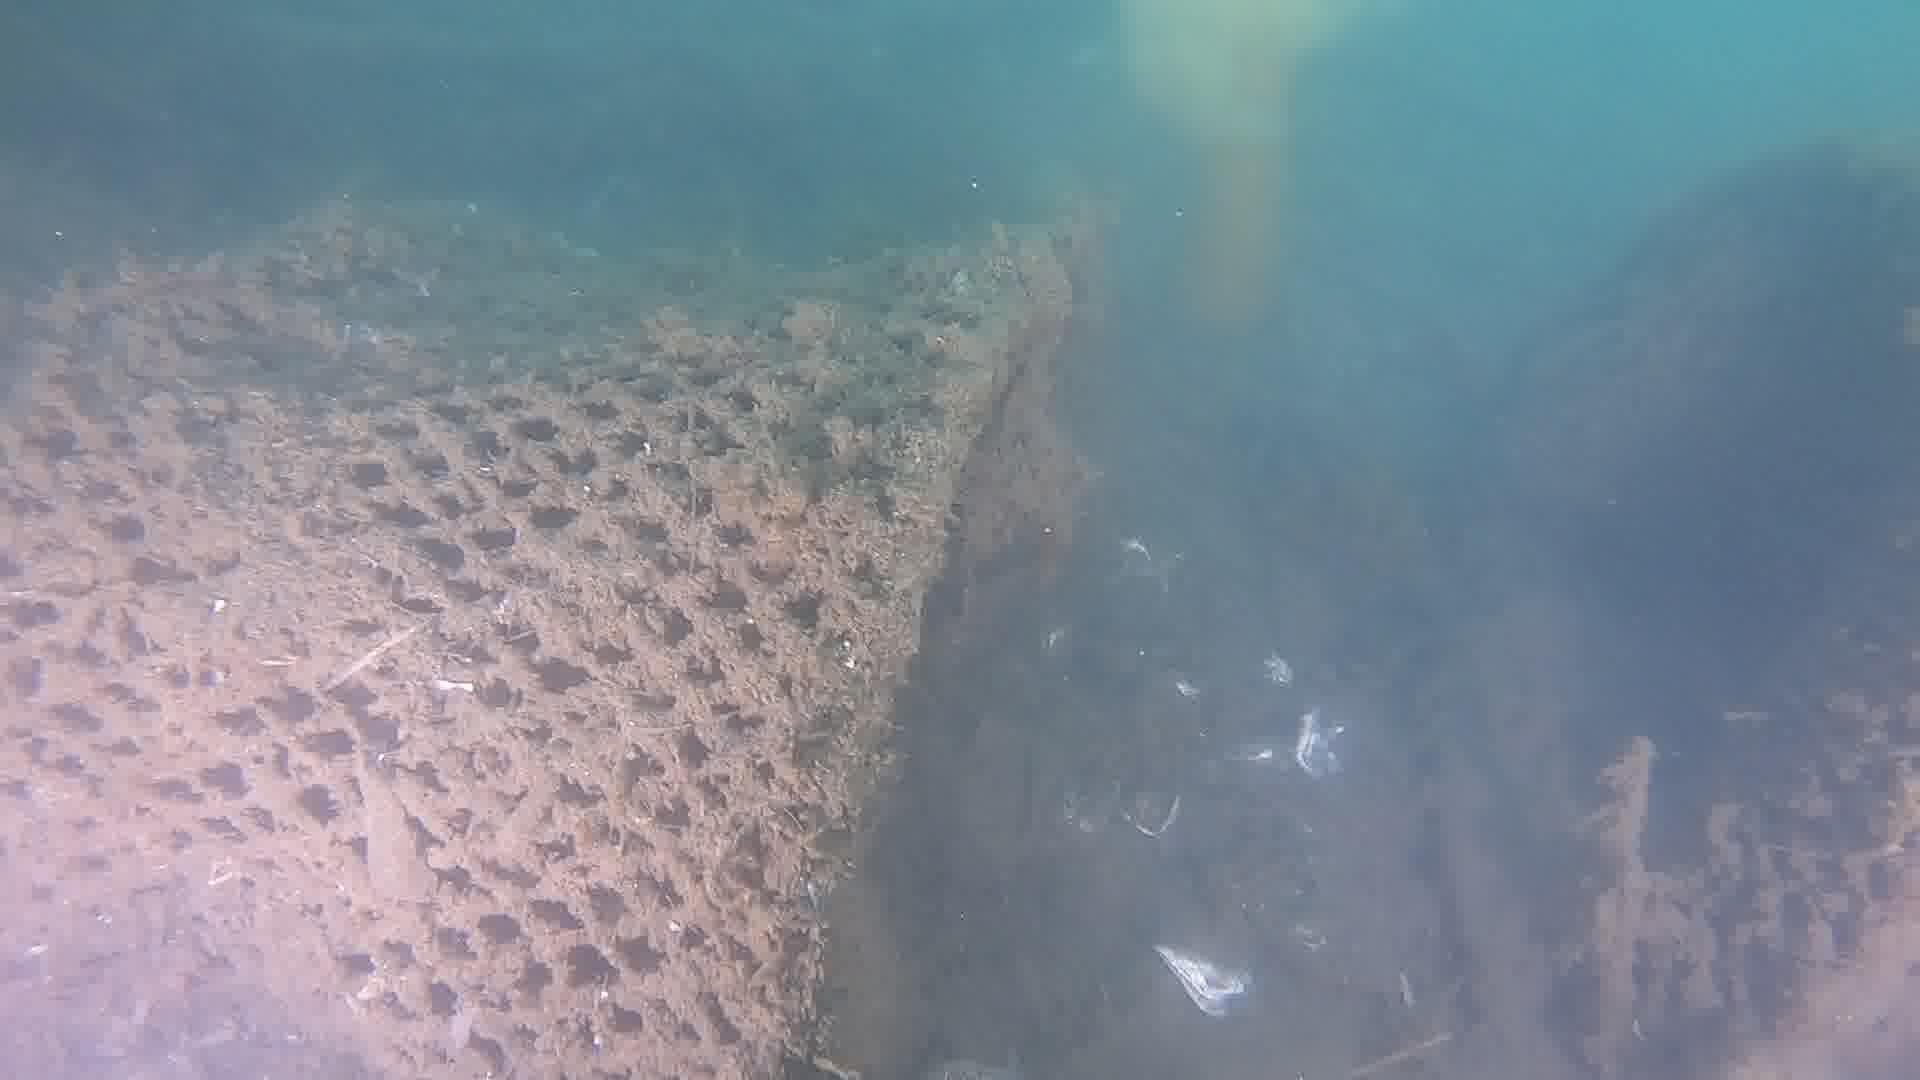spring fish trap: (0, 220, 1077, 1080)
